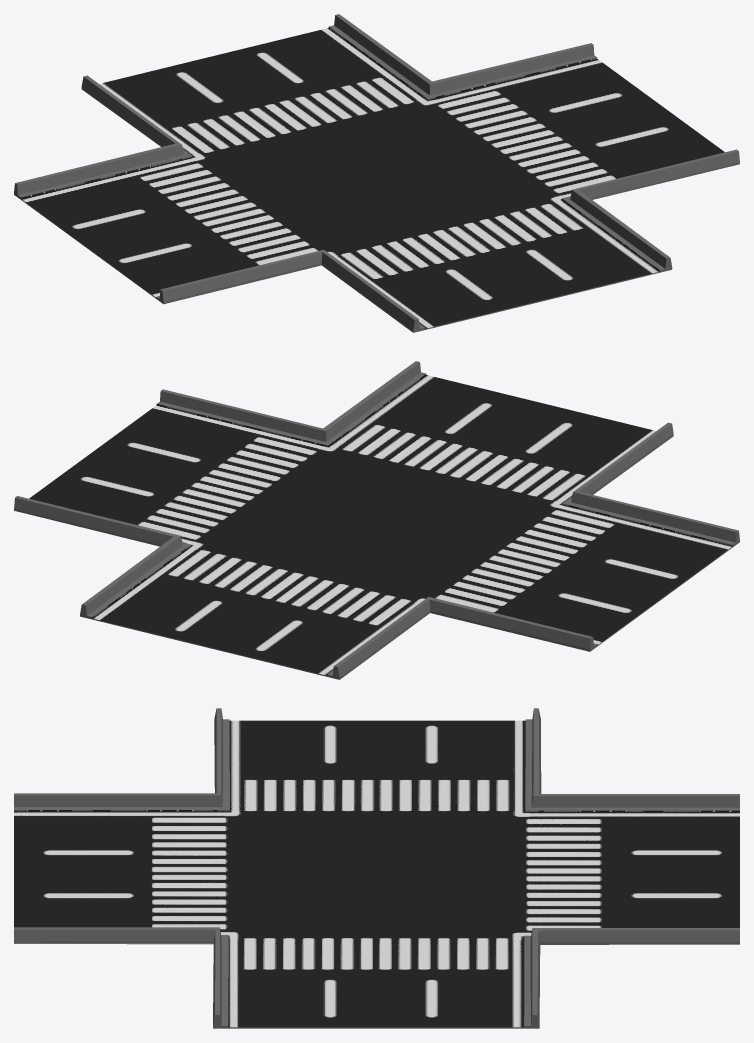
The model's file is instersection.FBX.
The picture shows the model from 3 angles, top to bottom: view 1: azimuth 30°, elevation 25°; view 2: azimuth 150°, elevation 25°; view 3: azimuth 270°, elevation 25°; orthographic projection. The views are drawn at different scales.
Parts seen in each view (by area): view 1: Box005; view 2: Box005; view 3: Box005.
Boxes of the visible parts, bbox=[...] form: Box005: bbox=[14, 14, 739, 332]; Box005: bbox=[14, 361, 739, 679]; Box005: bbox=[14, 708, 739, 1028].
Bounding box in the file's own units: 1614 × 33.32 × 1614.
